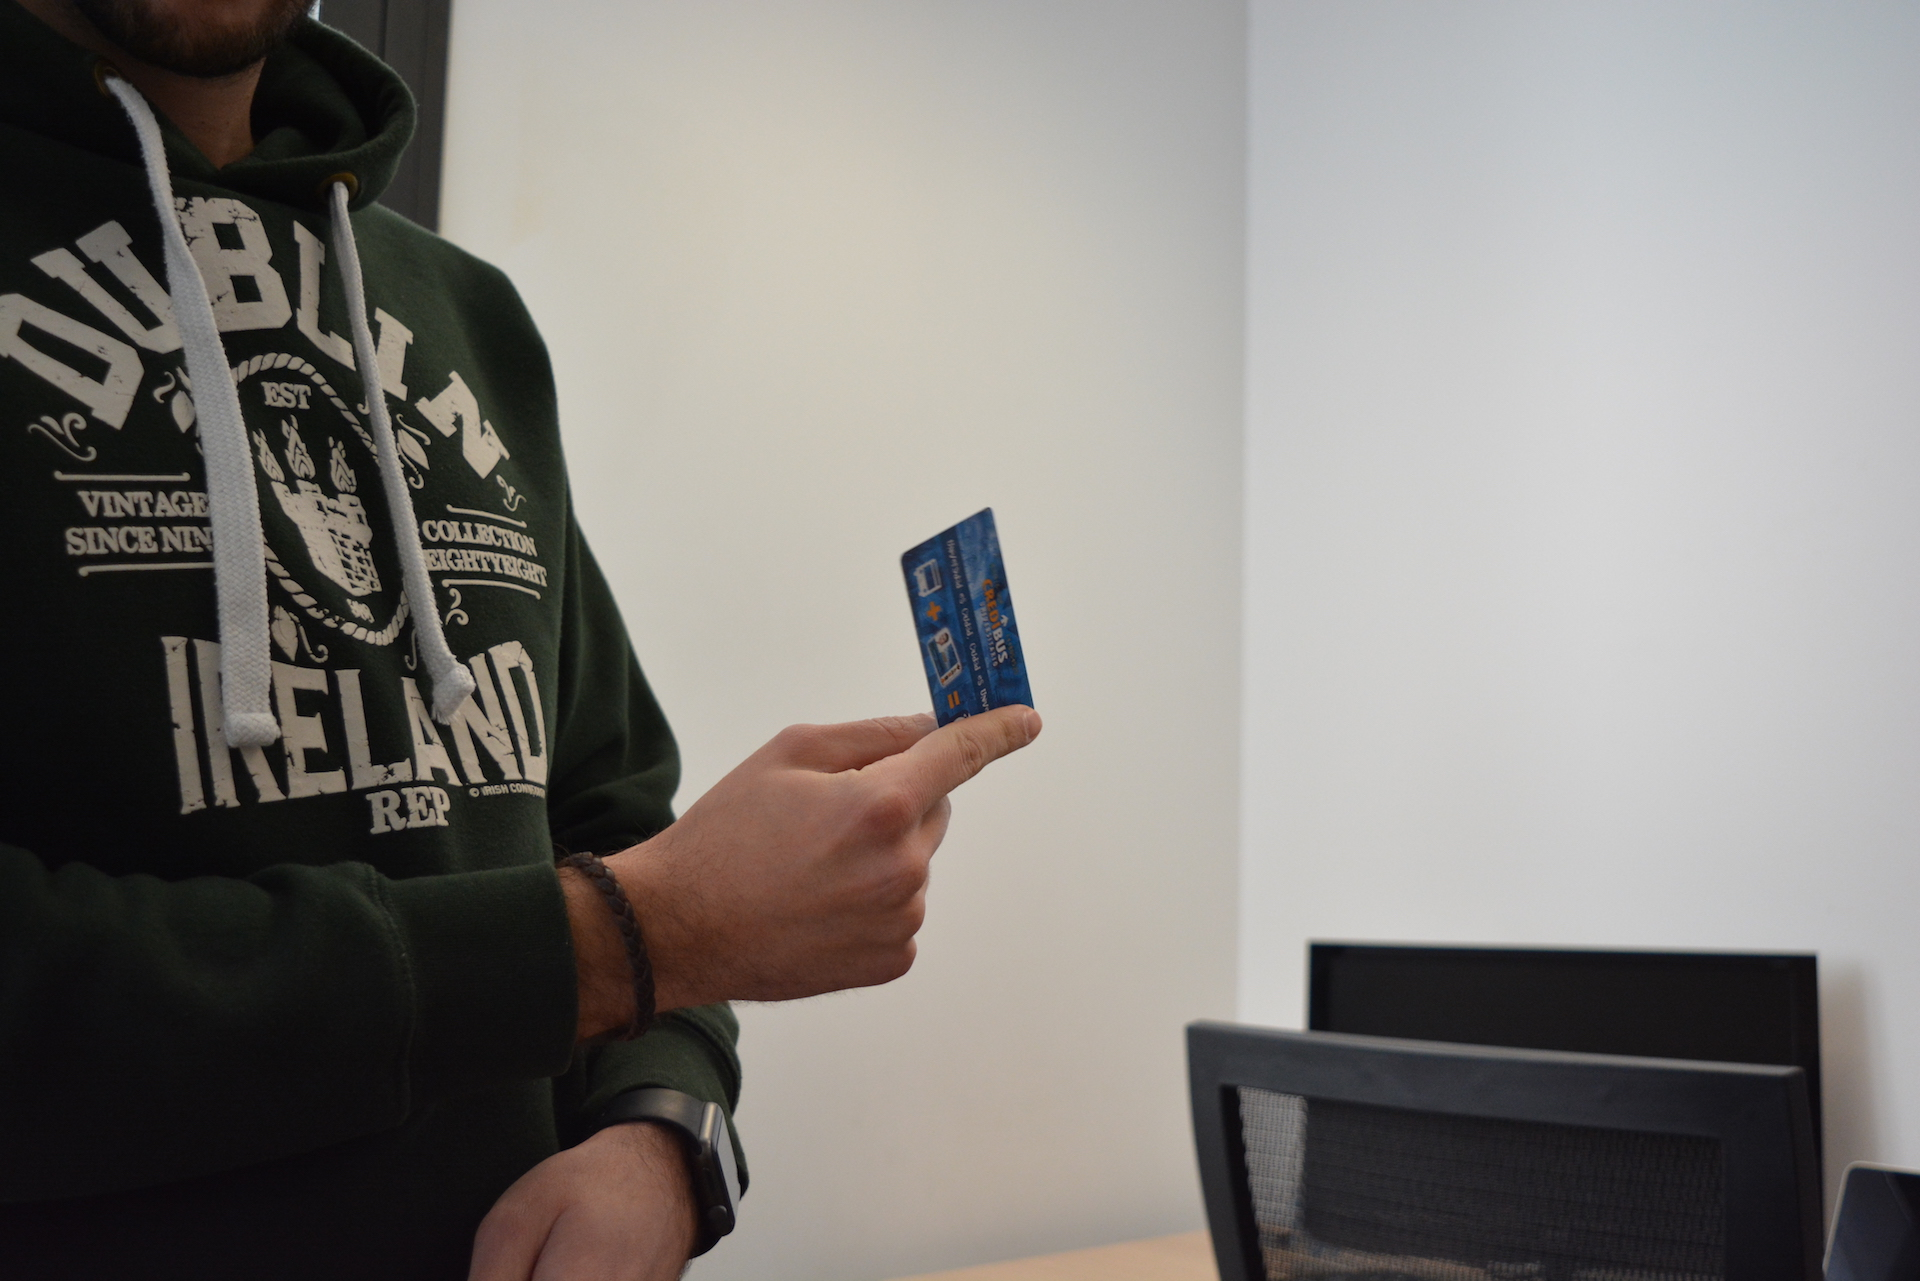tarjeta: (899, 505, 1038, 731)
